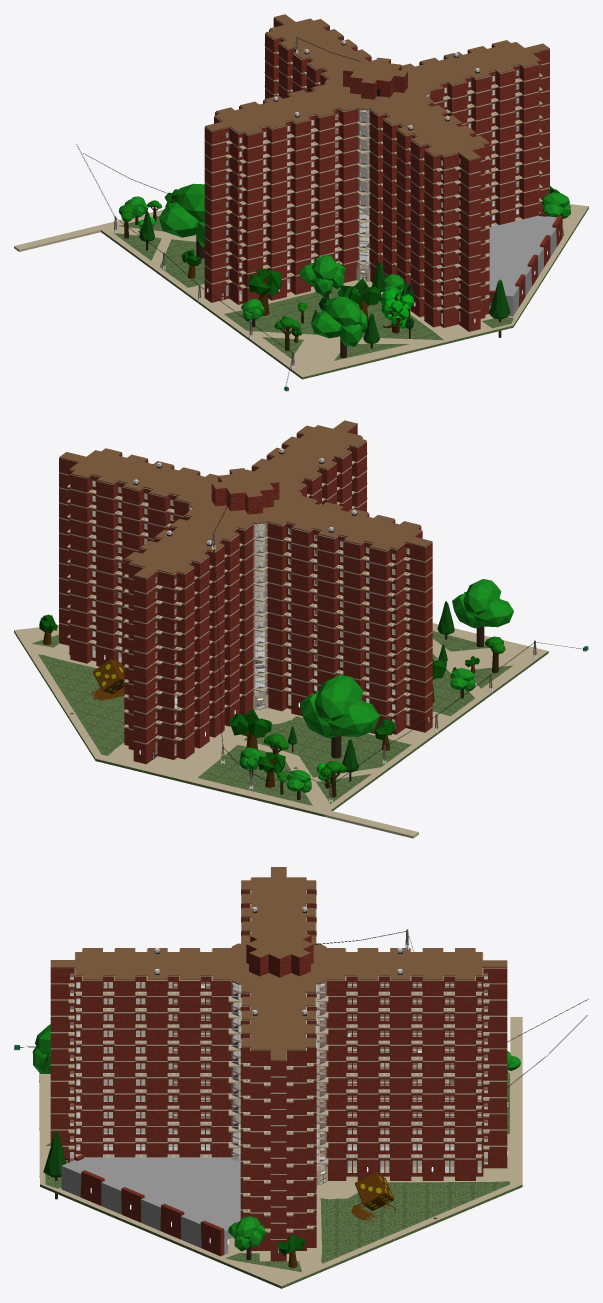
Rendered from Walker Center.glb.
The picture shows the model from 3 angles, top to bottom: view 1: azimuth 30°, elevation 25°; view 2: azimuth 150°, elevation 25°; view 3: azimuth 270°, elevation 25°; orthographic projection. The views are drawn at different scales.
Visible parts, largest first — view 1: Top Floors, Roof, Ground, Leaves.013, Storm Shelter, First Floor, Penthouse, Trunks, Sidewalk; view 2: Top Floors, Ground, Roof, Leaves.013, First Floor, Penthouse, Trunks, DiceArt, Sidewalk; view 3: Top Floors, Roof, Ground, Storm Shelter, First Floor, Leaves.013, Penthouse, DiceArt, Ceiling.001.
Boxes of the visible parts, bbox=[...] form: Top Floors: bbox=[204, 18, 549, 313]; Roof: bbox=[205, 14, 549, 160]; Ground: bbox=[96, 204, 588, 379]; Leaves.013: bbox=[119, 183, 570, 346]; Storm Shelter: bbox=[489, 213, 562, 316]; First Floor: bbox=[204, 196, 543, 331]; Penthouse: bbox=[343, 57, 407, 99]; Trunks: bbox=[124, 191, 550, 358]; Sidewalk: bbox=[14, 226, 100, 251]; Top Floors: bbox=[59, 425, 432, 744]; Ground: bbox=[14, 623, 548, 816]; Roof: bbox=[59, 420, 432, 578]; Leaves.013: bbox=[39, 579, 513, 792]; First Floor: bbox=[59, 616, 432, 764]; Penthouse: bbox=[211, 468, 279, 514]; Trunks: bbox=[41, 618, 498, 799]; DiceArt: bbox=[91, 659, 124, 701]; Sidewalk: bbox=[325, 810, 418, 838]; Top Floors: bbox=[50, 868, 507, 1239]; Roof: bbox=[50, 867, 507, 1061]; Ground: bbox=[39, 1063, 522, 1288]; Storm Shelter: bbox=[61, 1155, 240, 1256]; First Floor: bbox=[62, 1124, 507, 1261]; Leaves.013: bbox=[32, 1024, 520, 1255]; Penthouse: bbox=[246, 929, 313, 977]; DiceArt: bbox=[351, 1172, 395, 1220]; Ceiling.001: bbox=[76, 1124, 481, 1161].
Size of the model in its own units: 141 by 58.25 by 127.
57 materials, 3 textured.
